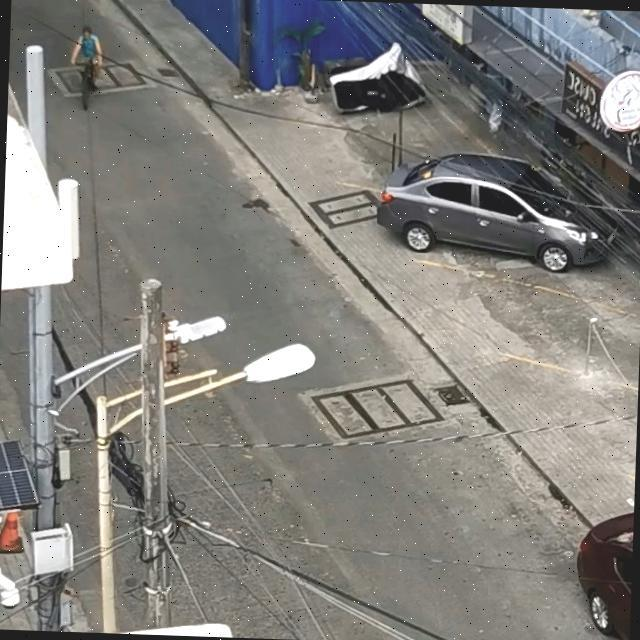Bike: (48, 7, 139, 118)
